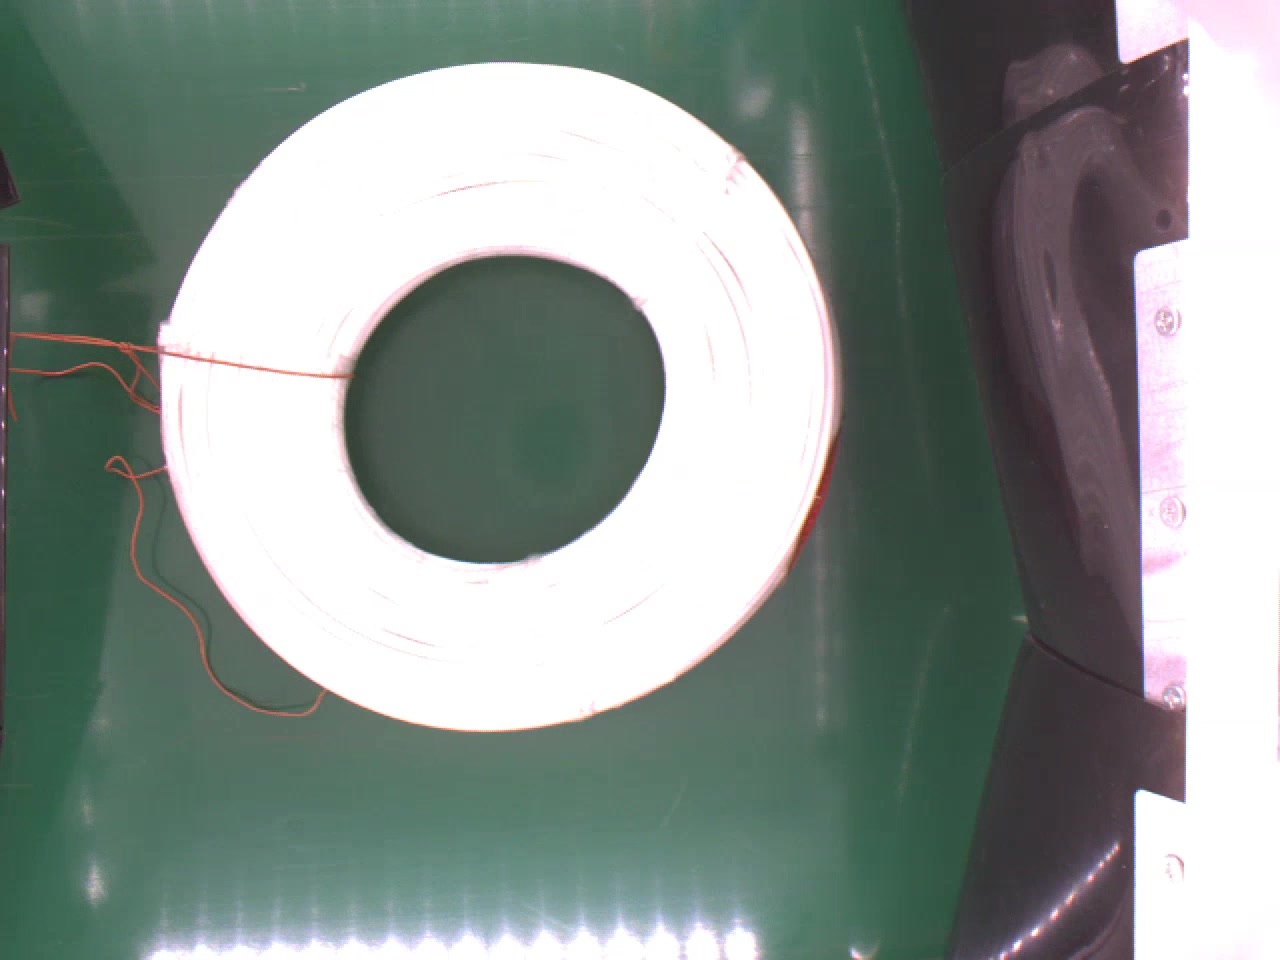white: (135, 61, 846, 733)
